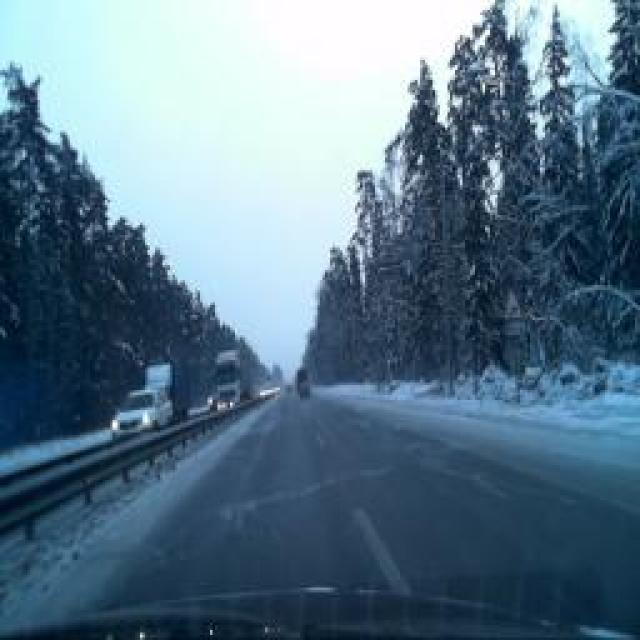sign: (502, 286, 522, 322)
